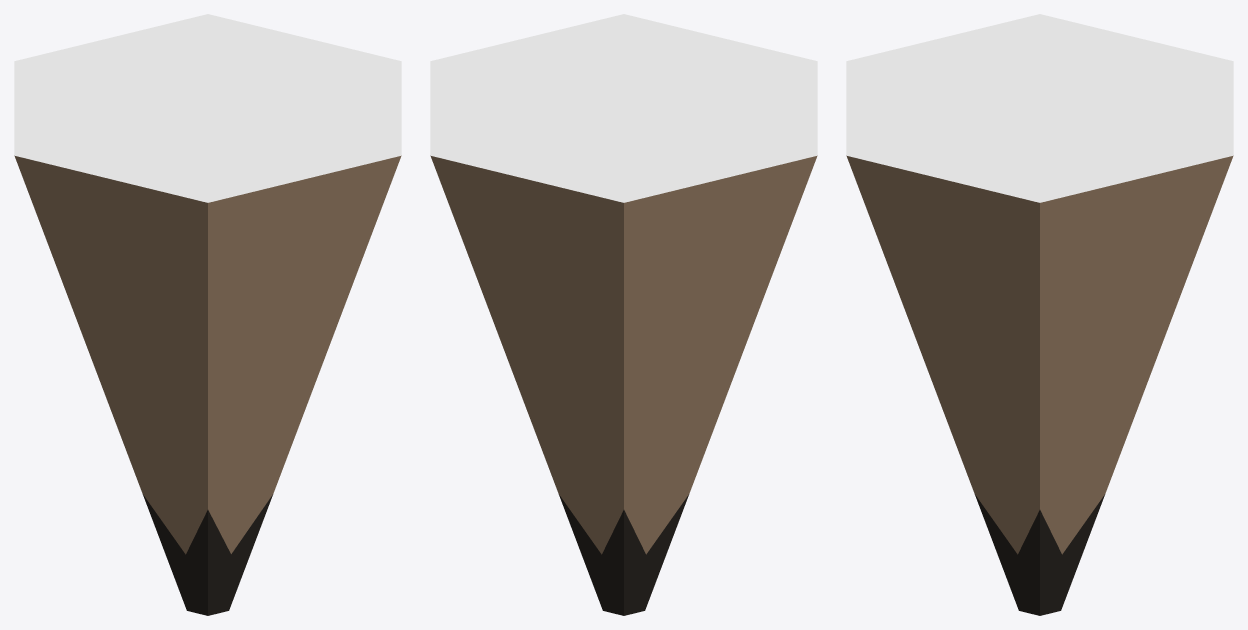
File: Pencil.fbx
3 views of the same model, side by side, from view 1: azimuth 30°, elevation 25°; view 2: azimuth 150°, elevation 25°; view 3: azimuth 270°, elevation 25° (orthographic).
Parts seen in each view (by area): view 1: Group1; view 2: Group1; view 3: Group1.
Part boxes in pixels (x1,y1,x2,y2): Group1: [14, 14, 401, 615]; Group1: [430, 14, 817, 615]; Group1: [846, 14, 1233, 615].
Bounding box in the file's own units: 0.5782 × 0.7096 × 0.5007.
